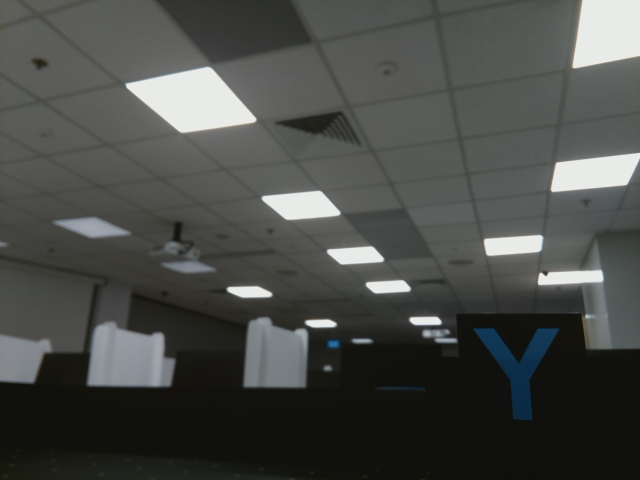y: (471, 322, 565, 423)
